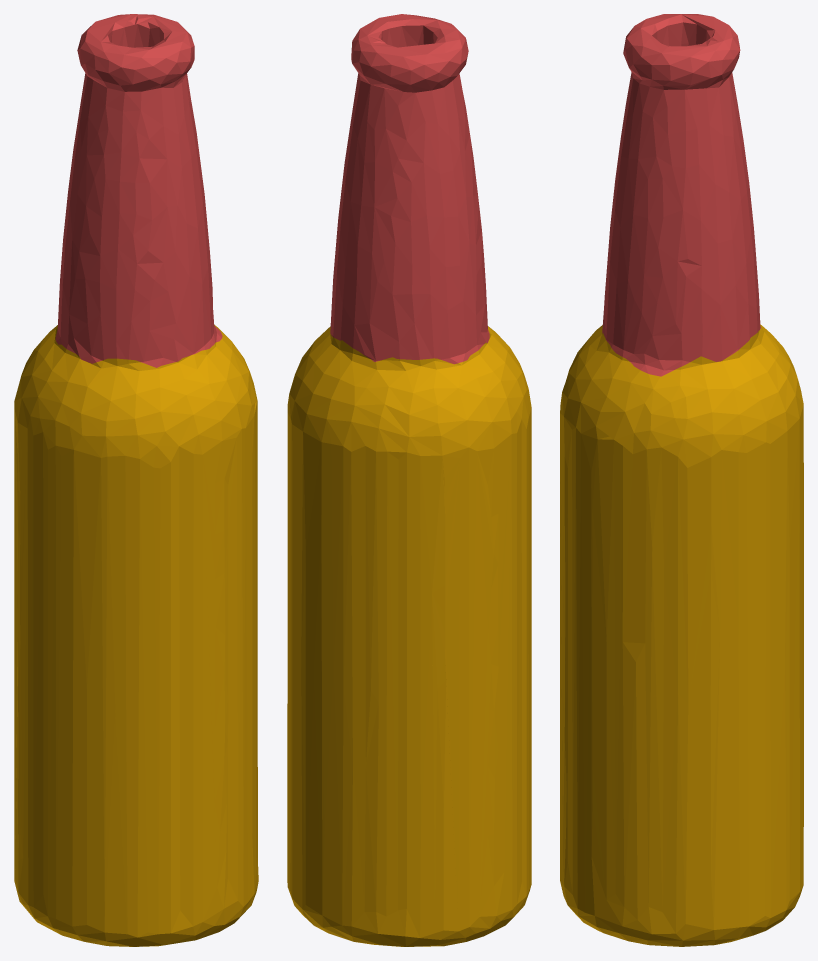
Rendered from fractured_46_2pcs.glb.
The picture shows the model from 3 angles, left to right: view 1: azimuth 30°, elevation 25°; view 2: azimuth 150°, elevation 25°; view 3: azimuth 270°, elevation 25°; orthographic projection.
Parts seen in each view (by area): view 1: piece_0.obj, piece_1.obj; view 2: piece_0.obj, piece_1.obj; view 3: piece_0.obj, piece_1.obj.
Boxes of the visible parts, x1,y1,x2,y2 form: piece_0.obj: [14, 325, 258, 946]; piece_1.obj: [55, 14, 222, 367]; piece_0.obj: [287, 326, 531, 946]; piece_1.obj: [330, 14, 489, 364]; piece_0.obj: [560, 324, 803, 946]; piece_1.obj: [602, 14, 760, 376].
Size of the model in its own units: 0.2541 by 1 by 0.2539.
